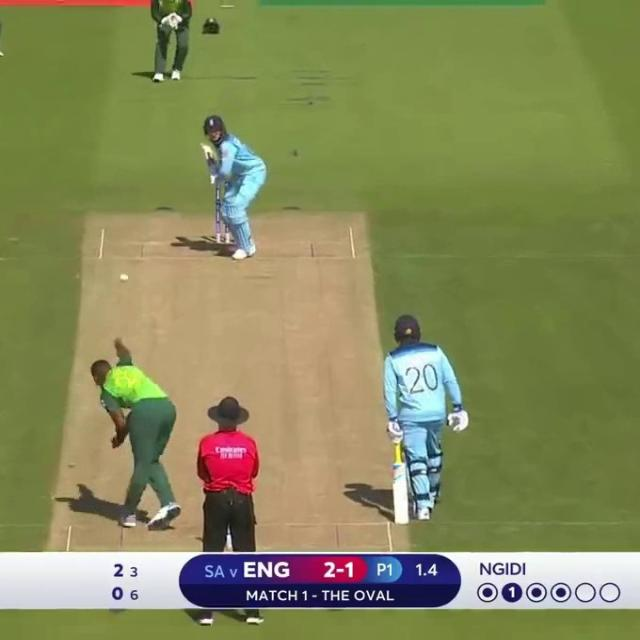bat: (391, 463, 412, 526), (201, 142, 215, 158)
toe: (394, 520, 410, 525)
